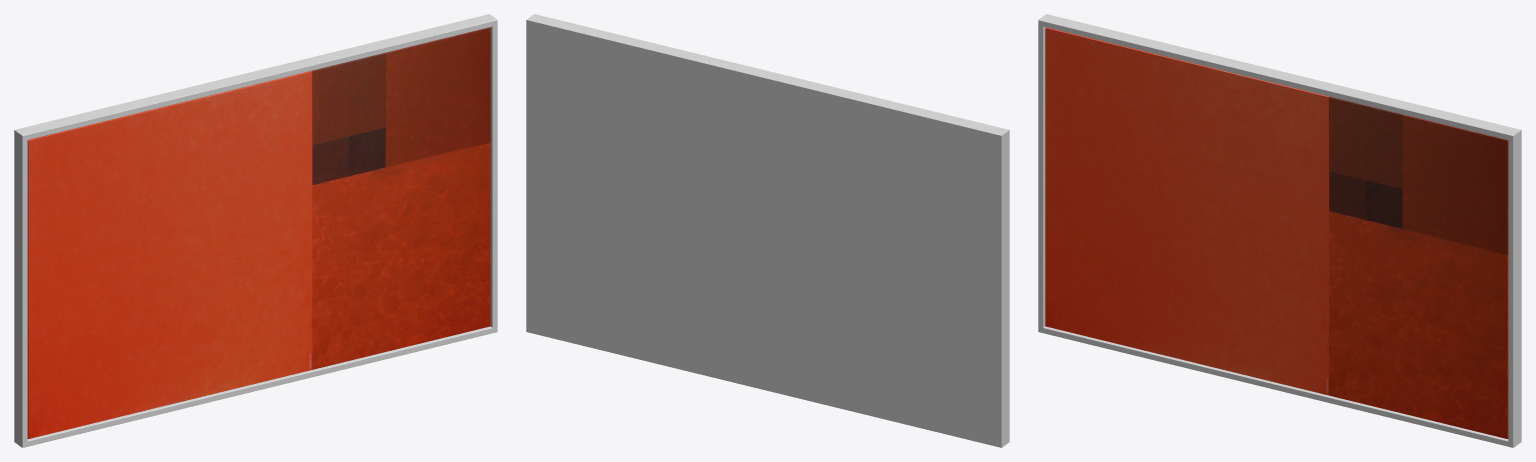
File: MOD_ART_ThreeRooms.fbx_Painting_Modern.fbx
3 views of the same model, side by side, from view 1: azimuth 30°, elevation 25°; view 2: azimuth 150°, elevation 25°; view 3: azimuth 330°, elevation 25° (orthographic).
Parts seen in each view (by area): view 1: Framed modern painting; view 2: Framed modern painting; view 3: Framed modern painting.
Part boxes in pixels (x1,y1,x2,y2): Framed modern painting: (14, 14, 497, 447); Framed modern painting: (526, 14, 1009, 447); Framed modern painting: (1038, 14, 1521, 447).
Size of the model in its own units: 133 by 83.4 by 4.
2 materials, 1 textured.
